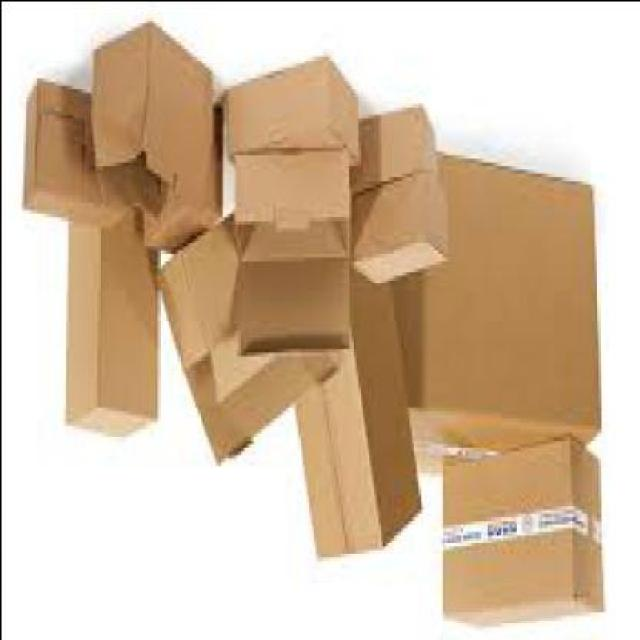CARDBOARD: (397, 150, 594, 476), (154, 216, 332, 464), (290, 274, 416, 560), (439, 442, 598, 626), (87, 21, 210, 212), (60, 216, 157, 439), (20, 80, 143, 231), (223, 63, 357, 168), (229, 146, 348, 263), (141, 98, 221, 260), (348, 172, 444, 290), (348, 106, 432, 202)
